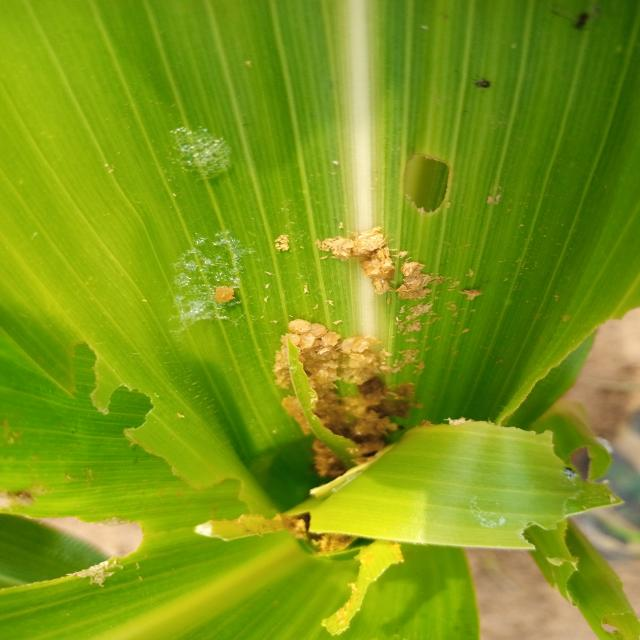fall-armyworm-egg: (244, 197, 497, 448), (220, 502, 368, 555)
fall-armyworm-larval-damage: (468, 390, 620, 560), (47, 328, 187, 442), (405, 124, 523, 242), (286, 534, 428, 626), (150, 469, 275, 548)
